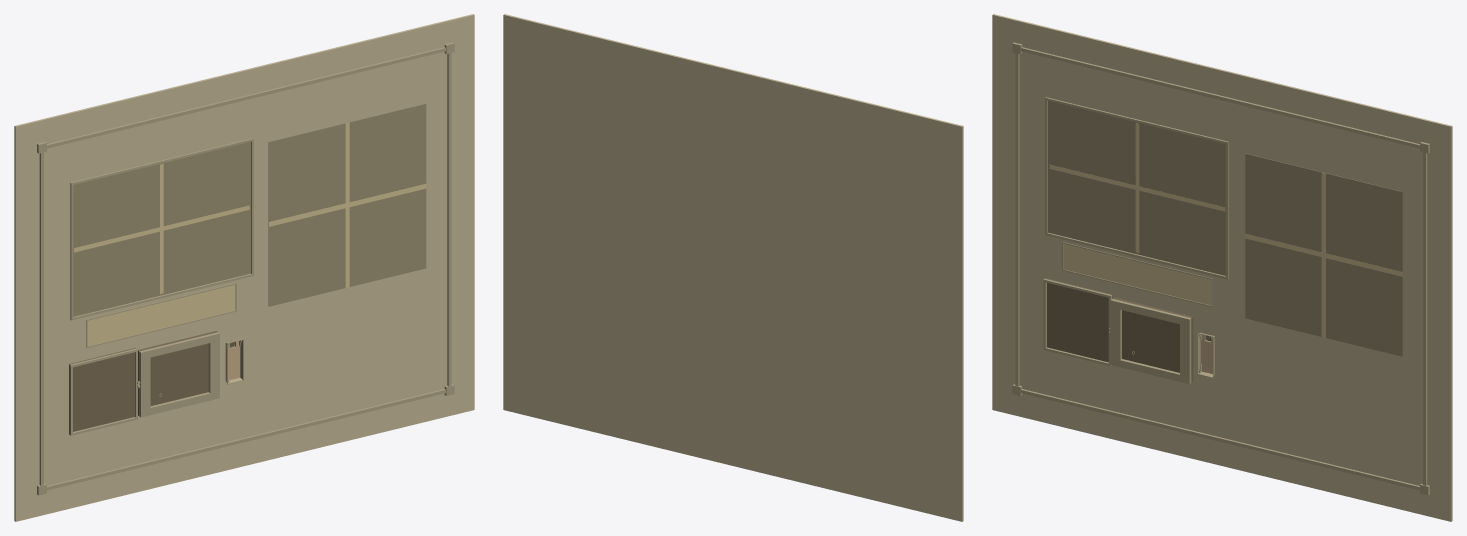
The model's file is dholavira.obj.
The picture shows the model from 3 angles, left to right: view 1: azimuth 30°, elevation 25°; view 2: azimuth 150°, elevation 25°; view 3: azimuth 330°, elevation 25°; orthographic projection.
Parts seen in each view (by area): view 1: ground_0, lower_31, middle_19, bailey_14, stadium_26, castle_9, city-wall_1, city-wall_2, city-wall_3, city-wall_4, middle_24, lower_32 (+8 smaller); view 2: ground_0; view 3: ground_0, lower_31, middle_19, bailey_14, stadium_26, castle_9, city-wall_1, city-wall_2, city-wall_3, city-wall_4, middle_24, lower_32 (+9 smaller).
Boxes of the visible parts, x1,y1,x2,y2 form: ground_0: [14, 14, 474, 521]; lower_31: [268, 103, 426, 306]; middle_19: [73, 141, 250, 316]; bailey_14: [69, 348, 136, 434]; stadium_26: [87, 284, 235, 346]; castle_9: [138, 331, 217, 415]; city-wall_1: [47, 389, 445, 490]; city-wall_2: [47, 47, 445, 148]; city-wall_3: [39, 152, 43, 485]; city-wall_4: [447, 53, 451, 386]; middle_24: [74, 205, 249, 252]; lower_32: [269, 184, 426, 226]; ground_0: [503, 14, 963, 521]; ground_0: [992, 14, 1452, 521]; lower_31: [1245, 153, 1402, 356]; middle_19: [1048, 101, 1225, 275]; bailey_14: [1045, 278, 1112, 362]; stadium_26: [1063, 244, 1211, 305]; castle_9: [1112, 297, 1193, 382]; city-wall_1: [1021, 389, 1419, 490]; city-wall_2: [1021, 47, 1419, 148]; city-wall_3: [1015, 53, 1019, 386]; city-wall_4: [1423, 152, 1427, 485]; middle_24: [1049, 164, 1225, 211]; lower_32: [1245, 233, 1402, 276].
Bounding box in the file's own units: 875 × 720 × 16.
